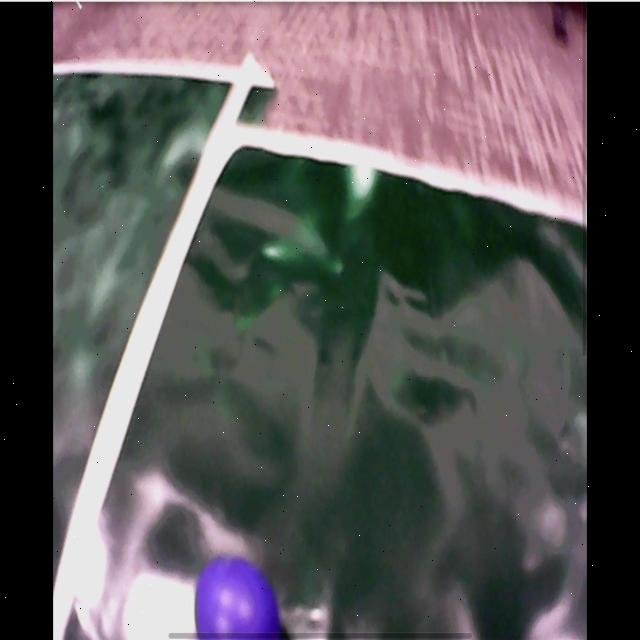ball: (195, 556, 280, 640)
